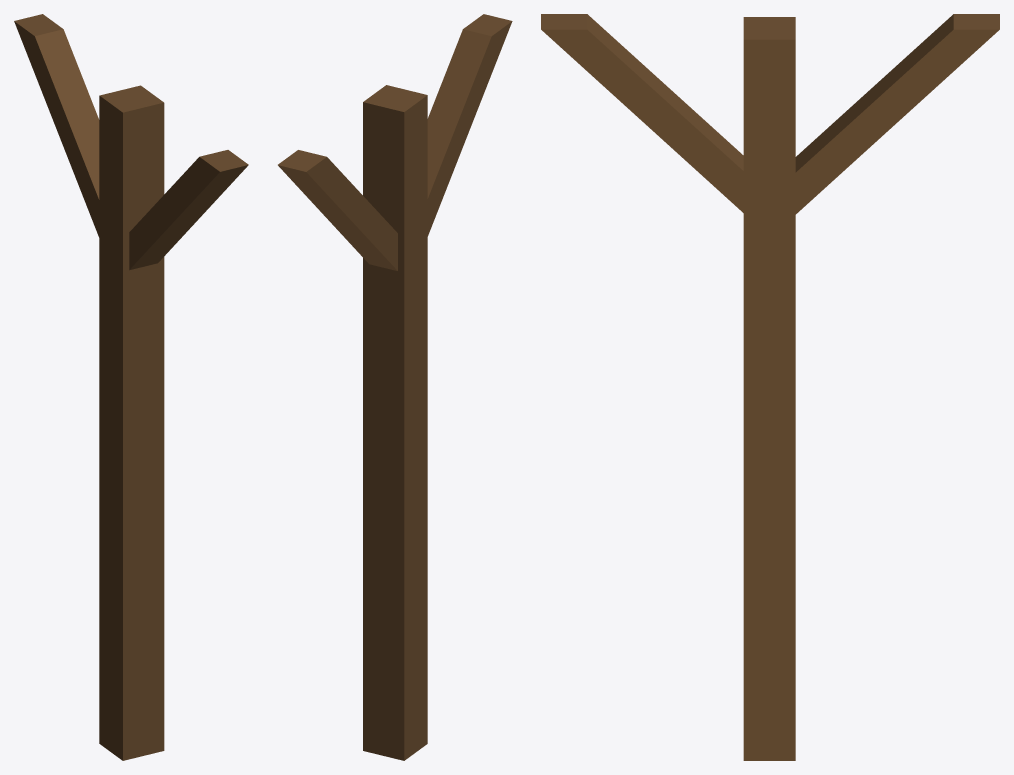
The model's file is Wall_Pole.fbx.
3 renders of one model, left to right at view 1: azimuth 30°, elevation 25°; view 2: azimuth 150°, elevation 25°; view 3: azimuth 270°, elevation 25°, orthographic. The views are drawn at different scales.
Visible parts, largest first — view 1: Wall_Pole; view 2: Wall_Pole; view 3: Wall_Pole.
Boxes of the visible parts, x1,y1,x2,y2 form: Wall_Pole: (14,14,248,760); Wall_Pole: (278,14,512,760); Wall_Pole: (541,14,999,760).
Bounding box in the file's own units: 0.2 × 3.03 × 1.73.
